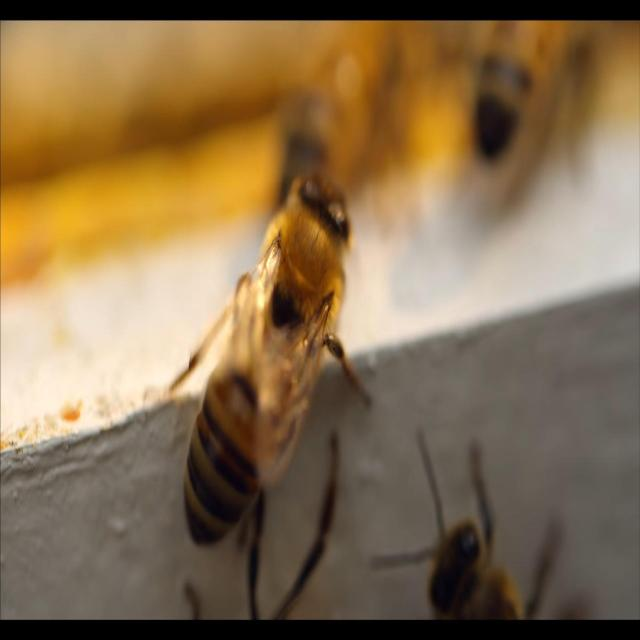honeybee: (178, 172, 346, 523), (399, 462, 545, 624), (457, 14, 570, 172)
